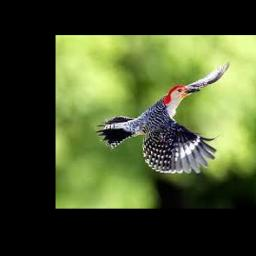Woodpecker: (97, 60, 230, 173)
